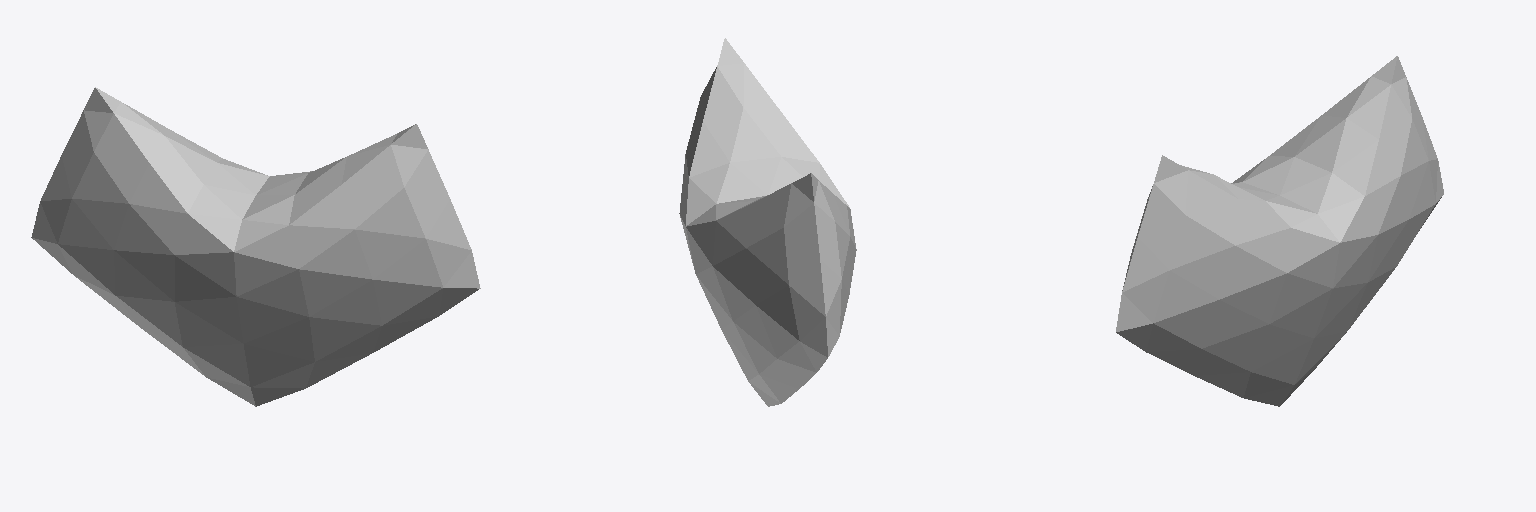
Rendered from heart.obj.
3 renders of one model, left to right at view 1: azimuth 30°, elevation 25°; view 2: azimuth 150°, elevation 25°; view 3: azimuth 270°, elevation 25°, orthographic.
Parts seen in each view (by area): view 1: Cube; view 2: Cube; view 3: Cube.
Part boxes in pixels (bbox=[...]): Cube: bbox=[31, 87, 480, 406]; Cube: bbox=[679, 38, 856, 406]; Cube: bbox=[1116, 56, 1443, 406].
Size of the model in its own units: 0.826 by 0.8365 by 0.826.